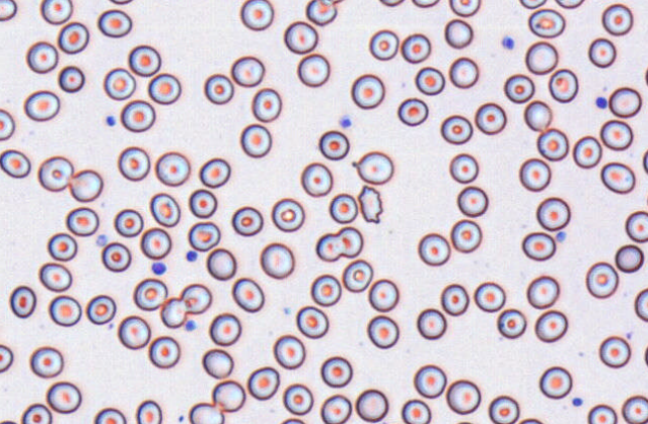PLT: (150, 260, 169, 278), (338, 113, 355, 129), (501, 34, 516, 51), (595, 93, 610, 110), (102, 113, 118, 127), (94, 233, 110, 247), (184, 320, 198, 334), (555, 229, 568, 244), (185, 250, 199, 263), (570, 396, 585, 408)
RBC: (315, 226, 363, 261), (352, 150, 393, 184), (37, 155, 73, 191), (259, 242, 294, 279), (155, 151, 190, 186), (445, 379, 480, 414), (350, 73, 384, 109), (585, 261, 618, 298), (283, 20, 318, 54), (68, 168, 103, 202), (536, 196, 570, 231), (300, 161, 333, 197), (133, 277, 167, 311), (231, 277, 264, 312), (526, 274, 559, 309), (271, 197, 304, 232), (600, 161, 635, 194), (117, 146, 150, 181), (120, 99, 155, 132), (23, 90, 60, 121), (211, 379, 245, 412), (413, 364, 446, 398), (208, 312, 241, 346), (117, 315, 150, 349), (518, 157, 551, 191), (355, 388, 388, 422), (525, 40, 558, 74), (246, 366, 279, 400), (366, 314, 399, 348), (539, 365, 572, 399), (297, 53, 330, 87), (417, 232, 450, 266), (29, 345, 63, 378), (273, 334, 305, 369), (46, 381, 81, 413), (528, 8, 565, 38), (295, 305, 328, 338), (103, 67, 136, 100), (534, 309, 567, 342), (25, 40, 58, 73), (598, 335, 631, 368), (536, 127, 568, 161), (450, 218, 482, 252), (608, 86, 642, 118), (149, 192, 180, 227), (148, 335, 180, 368), (57, 21, 89, 54), (128, 44, 161, 76), (148, 72, 181, 104), (48, 294, 81, 326), (231, 55, 264, 87), (342, 258, 373, 292), (240, 123, 271, 157), (521, 231, 556, 261), (251, 87, 281, 122), (320, 355, 352, 387), (456, 185, 488, 217), (474, 102, 506, 134), (601, 3, 633, 35), (179, 283, 212, 314), (310, 273, 341, 306), (368, 278, 399, 311), (600, 119, 633, 150), (38, 262, 72, 292), (65, 206, 99, 236), (548, 68, 578, 102), (97, 8, 132, 37), (201, 348, 233, 379), (282, 383, 313, 415), (140, 227, 171, 259), (473, 281, 505, 312), (231, 205, 263, 236), (206, 247, 236, 280), (240, 0, 273, 30), (187, 221, 220, 251), (572, 135, 602, 168), (85, 294, 116, 325), (318, 129, 349, 160), (199, 157, 230, 188), (100, 241, 131, 272), (203, 73, 234, 104), (416, 307, 446, 339), (448, 56, 478, 88), (440, 114, 472, 144), (0, 148, 31, 178), (503, 73, 534, 103), (368, 29, 398, 60), (523, 99, 552, 131), (440, 283, 469, 315), (496, 308, 526, 338), (614, 243, 644, 273), (400, 33, 430, 63), (488, 394, 519, 423), (320, 394, 351, 423), (449, 152, 478, 183), (397, 97, 428, 126), (159, 296, 187, 328), (9, 285, 36, 318), (329, 193, 358, 223), (444, 18, 473, 48), (47, 232, 77, 261), (188, 188, 217, 218), (414, 66, 444, 95), (113, 208, 143, 237), (588, 37, 616, 68), (305, 0, 337, 25), (621, 394, 648, 423), (40, 0, 72, 24), (188, 402, 224, 423), (401, 398, 431, 423), (625, 210, 648, 242), (58, 65, 84, 92), (135, 399, 162, 423), (20, 403, 52, 423), (587, 403, 617, 423), (93, 407, 126, 423), (449, 0, 480, 17), (0, 108, 15, 140), (634, 287, 648, 321), (0, 344, 13, 373), (0, 0, 17, 21), (554, 0, 584, 9), (518, 0, 546, 9), (411, 0, 439, 8), (517, 417, 544, 423), (642, 147, 648, 174), (279, 417, 305, 423), (379, 0, 404, 6), (107, 0, 134, 5), (643, 342, 648, 367), (319, 0, 344, 4), (452, 420, 475, 424), (644, 64, 648, 87), (0, 419, 17, 424), (645, 184, 648, 210)
Schistocyte: (359, 183, 387, 226)
